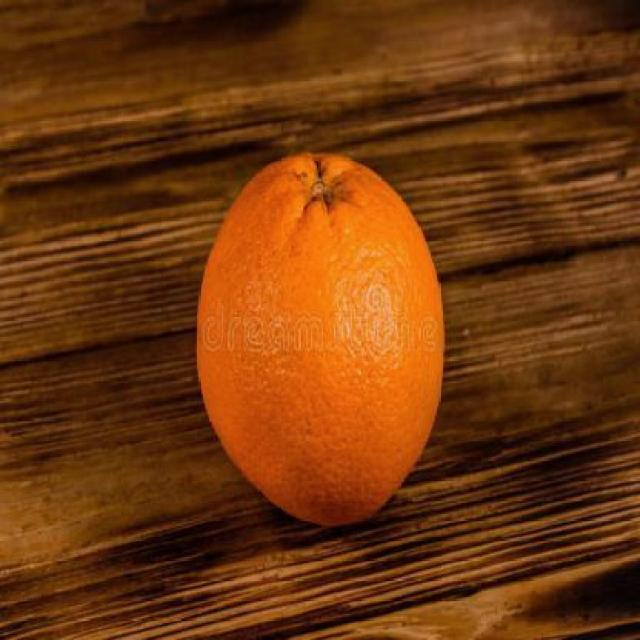Jeruk Sudah Matang: (194, 154, 443, 531)
